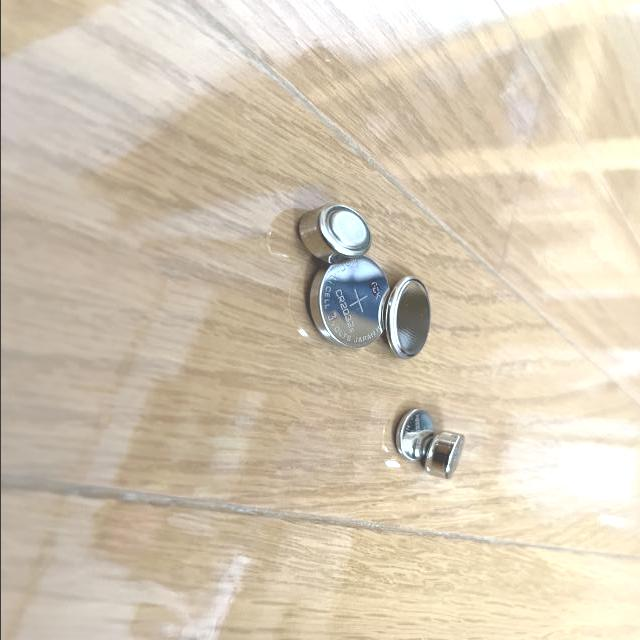COIN: (301, 256, 390, 350), (294, 205, 374, 264), (382, 275, 433, 362), (418, 430, 469, 484), (392, 407, 432, 465)
